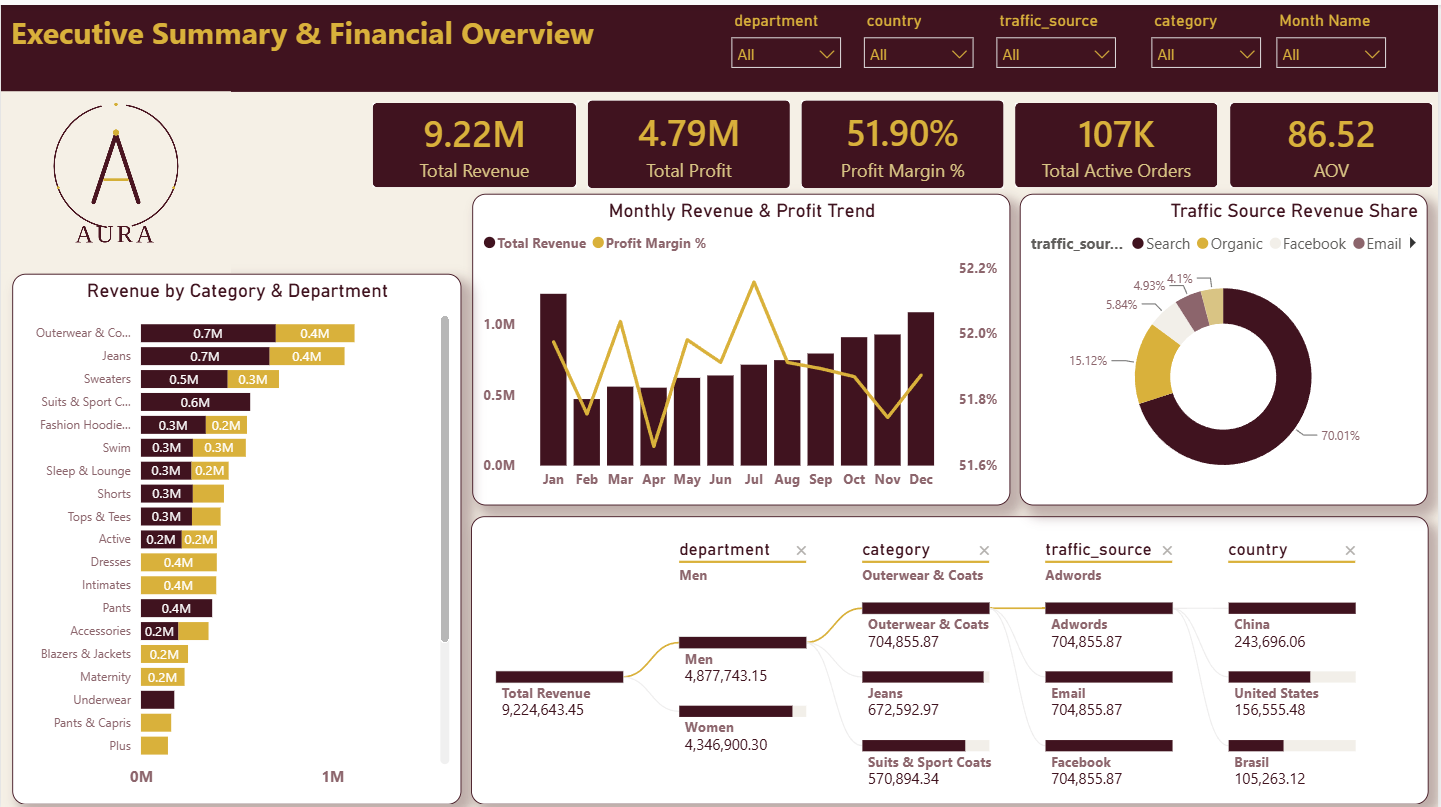

Layout of this report page (visuals, bound fields, positions):
{"tool":"powerbi","page":{"name":"Executive Summary & Financial Overview","canvas":[1280,720],"ordinal":0},"visuals":[{"type":"cardVisual","fields":{"Data":["Key_Measures.Profit Margin %"]},"box":[708.2,79.6,190.6,88.1],"z":0},{"type":"cardVisual","fields":{"Data":["Key_Measures.Total Profit"]},"box":[517.6,79.6,190.6,88.1],"z":1000},{"type":"cardVisual","fields":{"Data":["Key_Measures.Total Revenue"]},"box":[325.7,82,191.8,85.7],"z":2000},{"type":"cardVisual","fields":{"Data":["Key_Measures.Total Active Orders"]},"box":[898.8,82,190.6,85.7],"z":3000},{"type":"cardVisual","fields":{"Data":["Key_Measures.AOV"]},"box":[1089.4,82,190.6,85.7],"z":4000},{"type":"shape","box":[0,0,1280,77.2],"z":5000},{"type":"lineStackedColumnComboChart","title":"Monthly Revenue & Profit Trend ","fields":{"Y":["Key_Measures.Total Revenue"],"Y2":["Key_Measures.Profit Margin %"],"Category":["Dim_Date.Month Name"]},"box":[419.8,167.7,479,277.5],"z":6000},{"type":"barChart","title":"Revenue by Category & Department","fields":{"Category":["Dim_Products.category"],"Y":["Key_Measures.Total Revenue"],"Series":["Dim_Products.department"]},"box":[10,239.3,399.6,473.1],"z":7000},{"type":"decompositionTreeVisual","fields":{"Analyze":["Key_Measures.Total Revenue"],"ExplainBy":["Dim_Products.department","Dim_Products.category","Fact_Events.traffic_source","Dim_Users.country"]},"box":[418.6,455.3,852.7,257.1],"z":8000},{"type":"slicer","fields":{"Values":["Dim_Date.Month Name"]},"box":[1125.6,0,118.2,57.9],"z":9000},{"type":"image","box":[0,77.2,205.1,161.7],"z":10000},{"type":"textbox","box":[0,1.2,579.1,61.5],"z":11000},{"type":"slicer","fields":{"Values":["Dim_Products.category"]},"box":[1014.6,0,118.2,67.6],"z":12000},{"type":"slicer","fields":{"Values":["Fact_Events.traffic_source"]},"box":[876.1,0,126.9,60.1],"z":13000},{"type":"slicer","fields":{"Values":["Dim_Users.country"]},"box":[758.1,0,118,70.1],"z":14000},{"type":"slicer","fields":{"Values":["Dim_Products.department"]},"box":[640.1,0,118,67.9],"z":15000},{"type":"donutChart","title":"Traffic Source Revenue Share","fields":{"Y":["Key_Measures.Total Revenue"],"Category":["Dim_Users.traffic_source"]},"box":[907.2,167.7,363.1,277.5],"z":16000}]}

Visuals, with their boxes in screenshot pixels (x1, y1, x2, y2), scaled from the page's 1280x720 canvas onto the 1441x807 screenshot:
cardVisual - Key_Measures.Profit Margin %: 797 89 1012 188
cardVisual - Key_Measures.Total Profit: 583 89 797 188
cardVisual - Key_Measures.Total Revenue: 367 92 583 188
cardVisual - Key_Measures.Total Active Orders: 1012 92 1226 188
cardVisual - Key_Measures.AOV: 1226 92 1440 188
shape: 0 0 1440 87
"Monthly Revenue & Profit Trend " lineStackedColumnComboChart: 473 188 1012 499
"Revenue by Category & Department" barChart: 11 268 461 798
decompositionTreeVisual - Key_Measures.Total Revenue x Dim_Products.department: 471 510 1431 798
slicer - Dim_Date.Month Name: 1267 0 1400 65
image: 0 87 231 268
textbox: 0 1 652 70
slicer - Dim_Products.category: 1142 0 1275 76
slicer - Fact_Events.traffic_source: 986 0 1129 67
slicer - Dim_Users.country: 853 0 986 79
slicer - Dim_Products.department: 721 0 853 76
"Traffic Source Revenue Share" donutChart: 1021 188 1430 499
